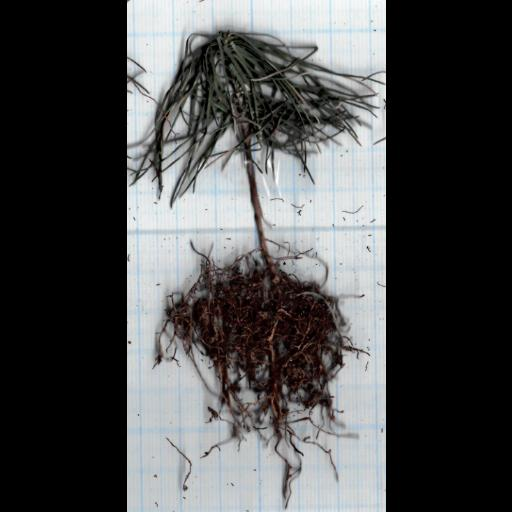flowerCedr: (136, 32, 375, 202)
rootCedr: (151, 245, 364, 504)
stemCedr: (245, 161, 264, 249)
